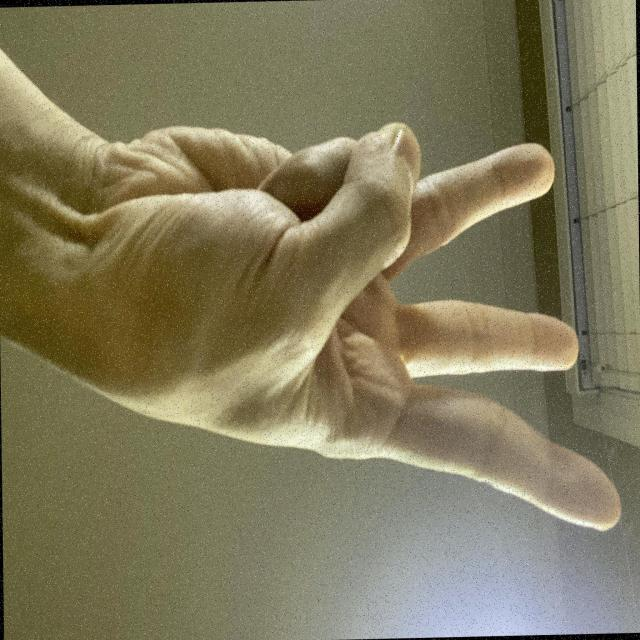W: (231, 12, 576, 640)
